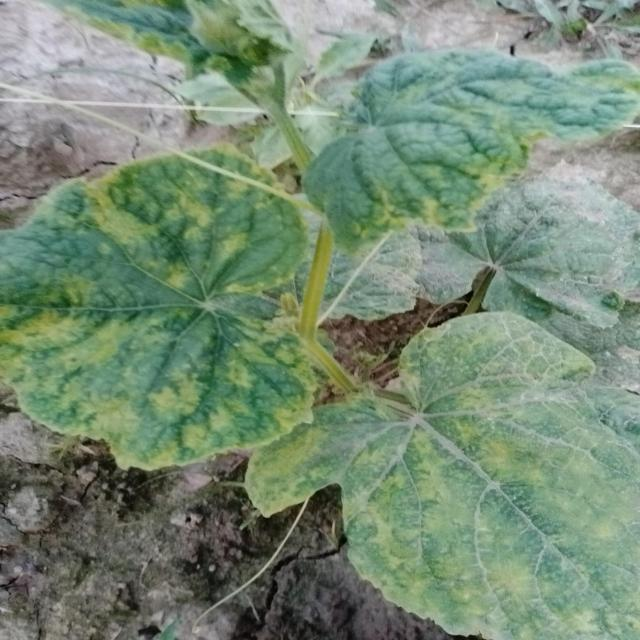cucumber_downy: (316, 316, 639, 640), (0, 164, 314, 472), (309, 35, 640, 255), (49, 0, 286, 96)
